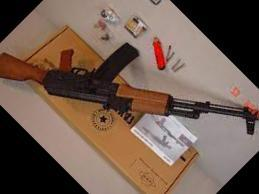larga: (0, 43, 259, 136)
